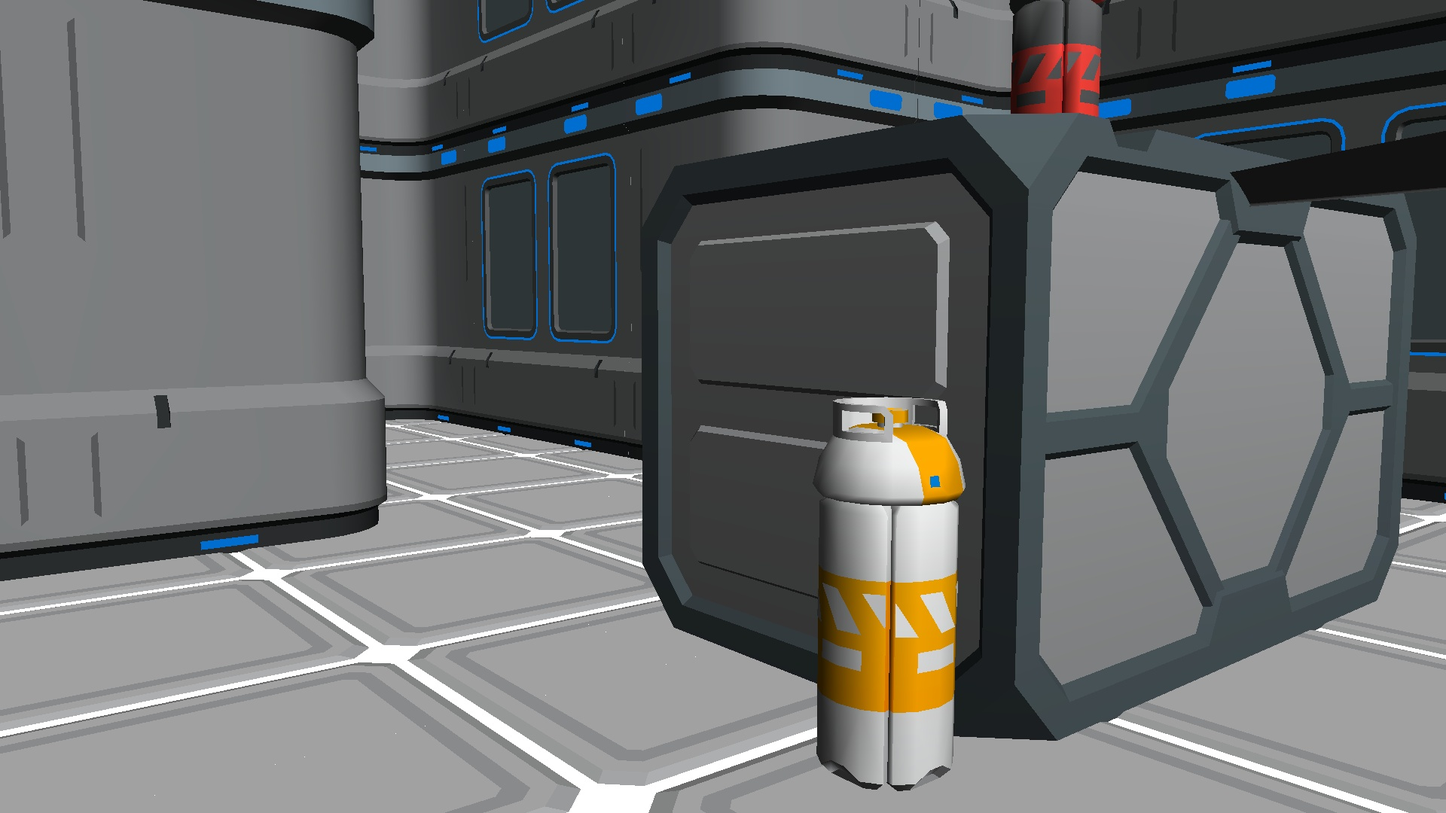red barrel: (1010, 0, 1103, 117)
yellow barrel: (813, 397, 966, 791)
